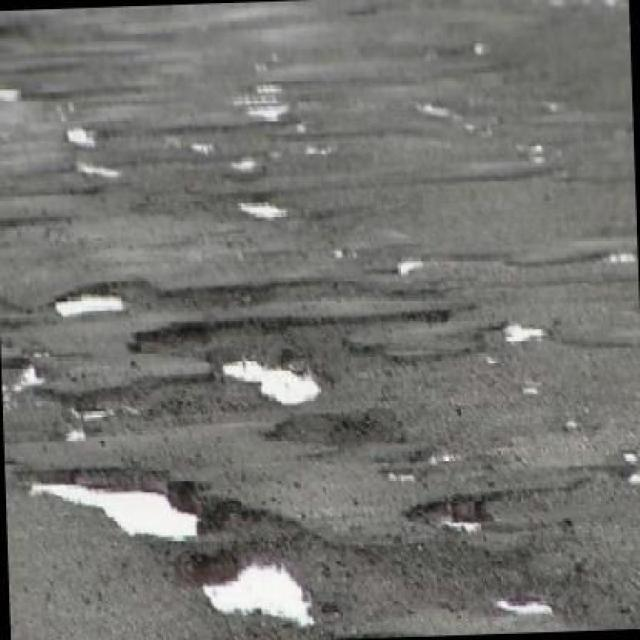pothole: (15, 466, 245, 538), (175, 542, 323, 629), (218, 351, 334, 411), (403, 495, 495, 534), (52, 292, 129, 318)
